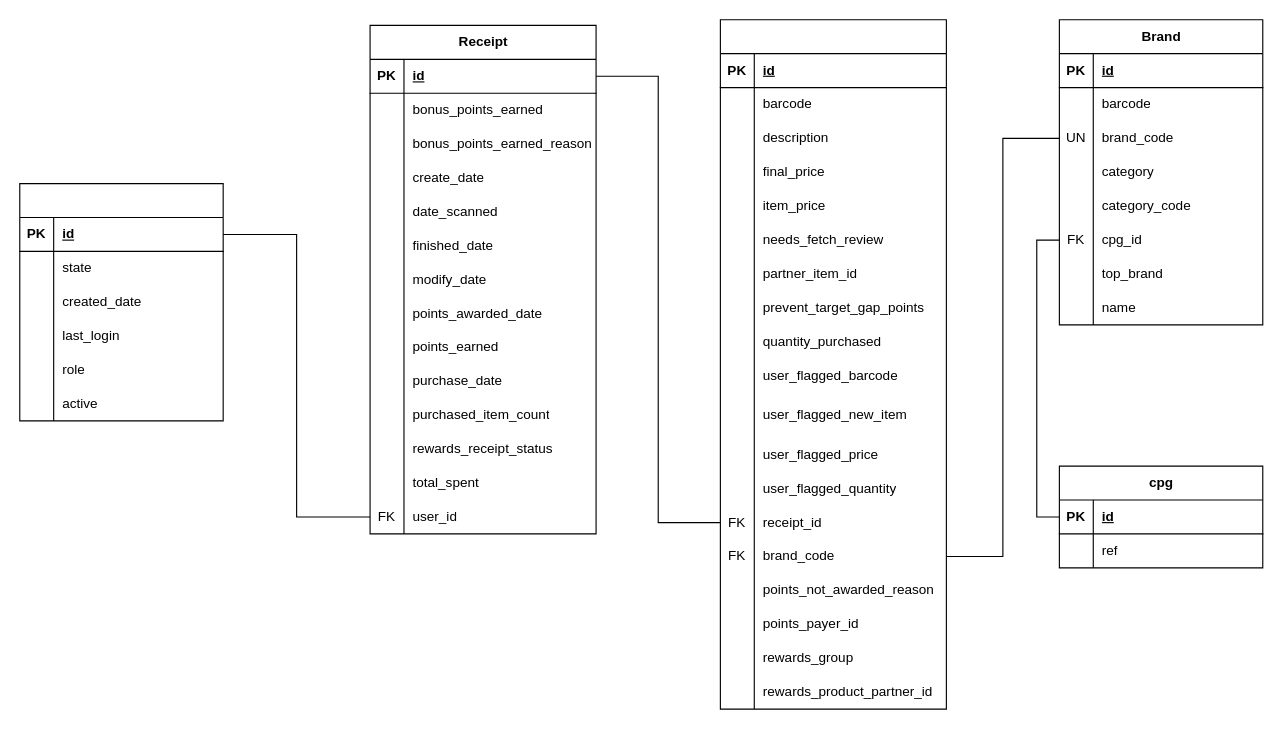
Some shapes in this 1283 by 729 pixel diagram are drawn without their labels. The shapes that lost their labels are listed below. From the top down, each one's box as (x1, y1, x2, y2) in pixels, then its label:
(19, 182, 223, 421): User
(719, 19, 946, 709): Receipt_Item
